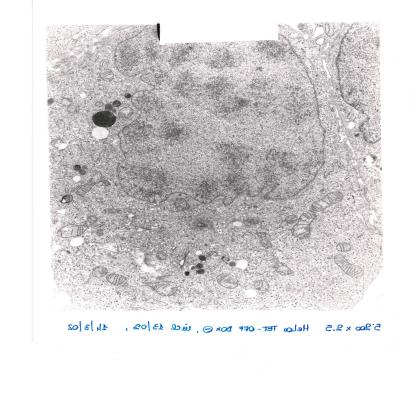mitochondria: (58, 216, 97, 238), (289, 210, 318, 238), (333, 255, 365, 278), (76, 172, 102, 196), (312, 191, 343, 211), (143, 281, 178, 297), (217, 273, 240, 289), (273, 262, 294, 276), (106, 274, 130, 286), (90, 266, 109, 278), (174, 198, 192, 210), (99, 68, 114, 82), (117, 106, 134, 118), (253, 280, 271, 291), (335, 242, 354, 252), (66, 104, 80, 114), (284, 215, 299, 224), (259, 239, 272, 249), (51, 138, 64, 148), (56, 118, 66, 129), (255, 231, 268, 238), (93, 101, 104, 108)
